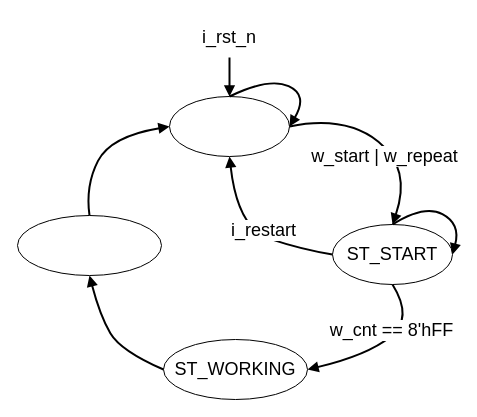
This 477x417 diagram has some shape labels left out. The shapes that lost their labels are listed below. From the top down, each one's box as (x1, y1, x2, y2) in pixels, then its label:
(168, 96, 290, 156): ST_IDLE
(16, 214, 162, 276): ST_DONE
